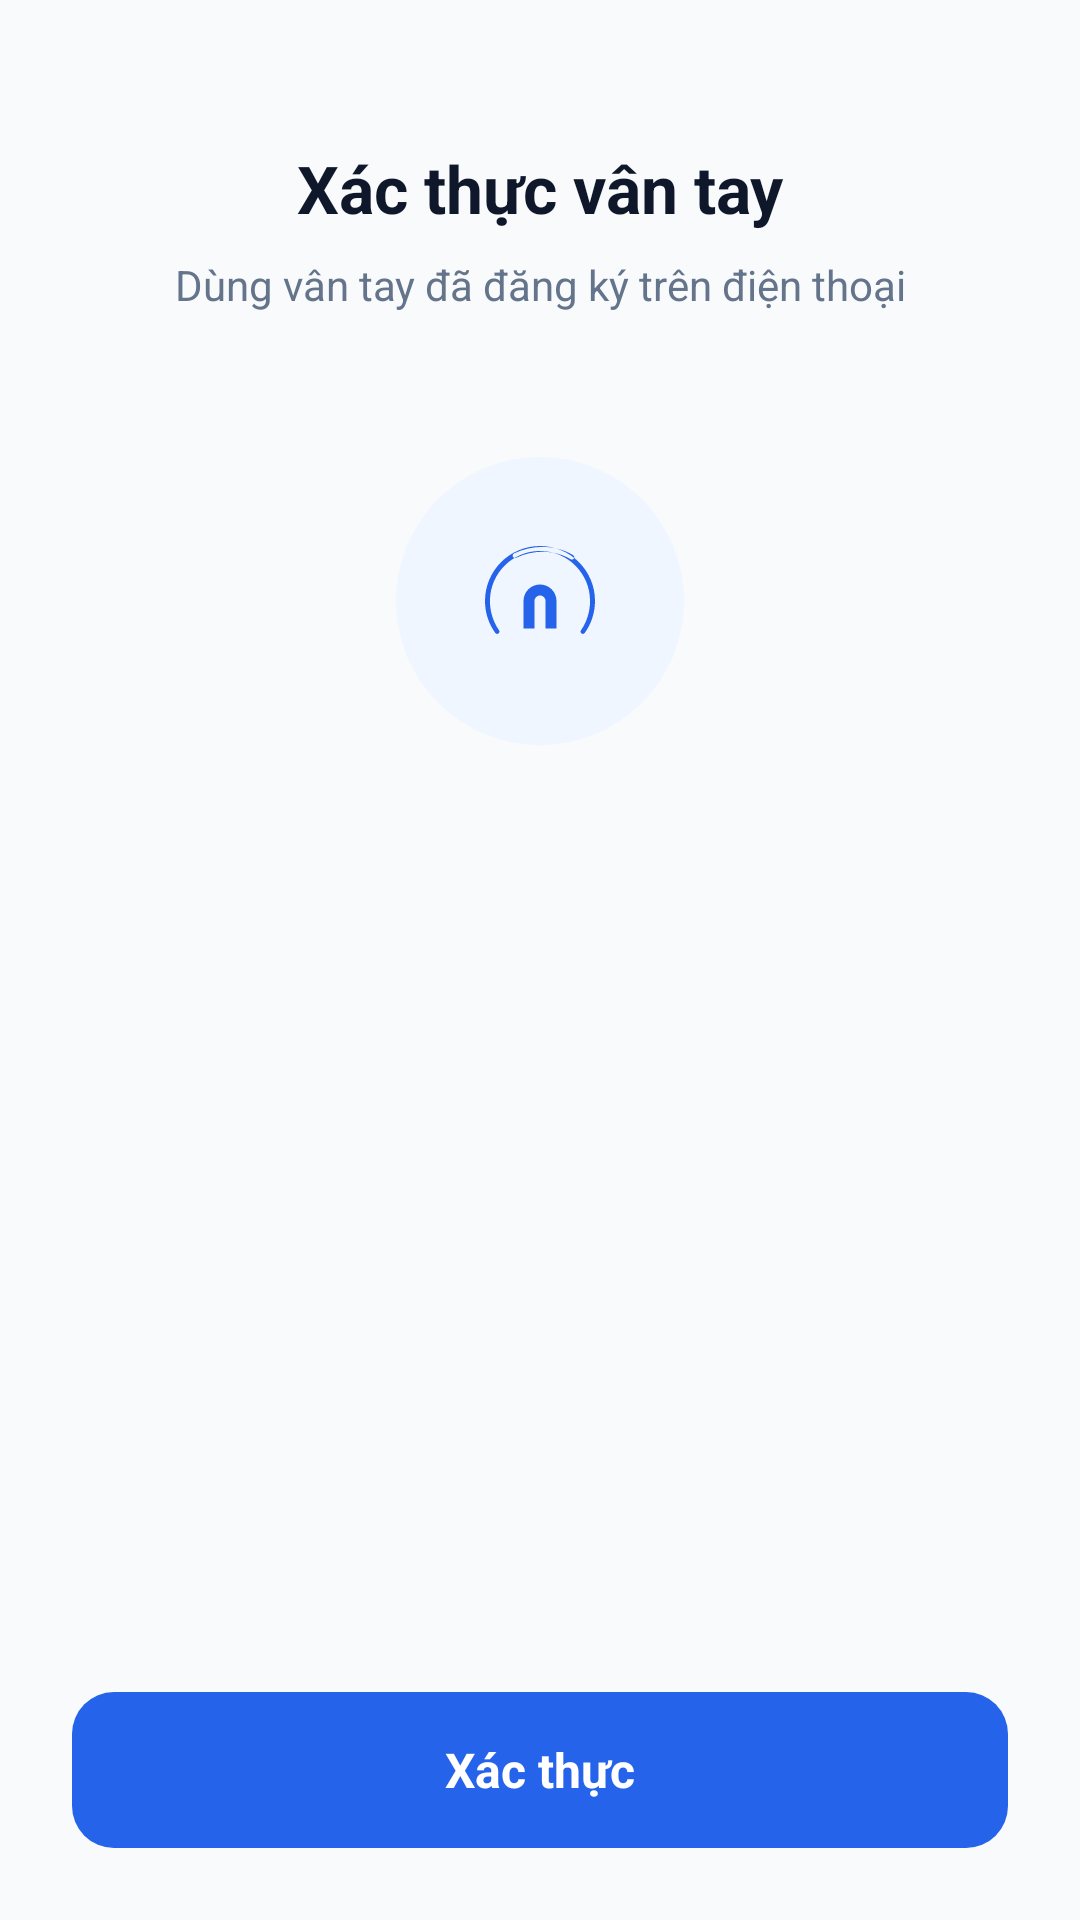

Where icons sit on this 1080×1920 app screen, as (x1, y1, x2, y2):
fingerprint: (396, 457, 684, 745)
